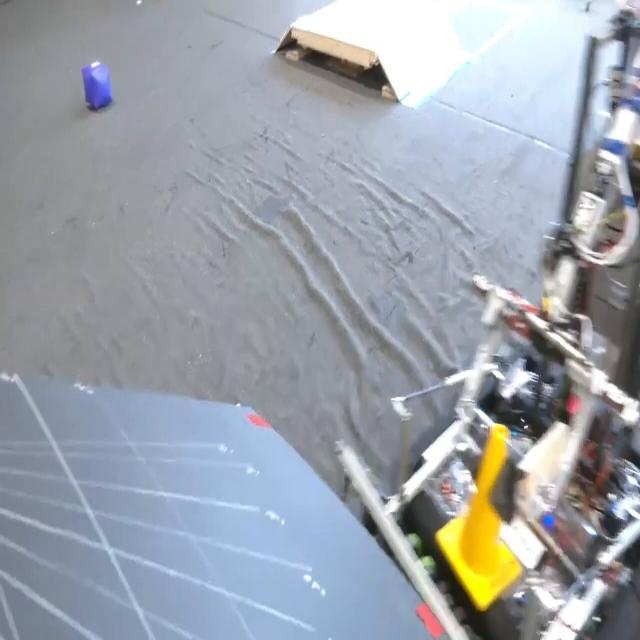frc_cone: (441, 428, 516, 616)
frc_cube: (80, 53, 114, 110)
